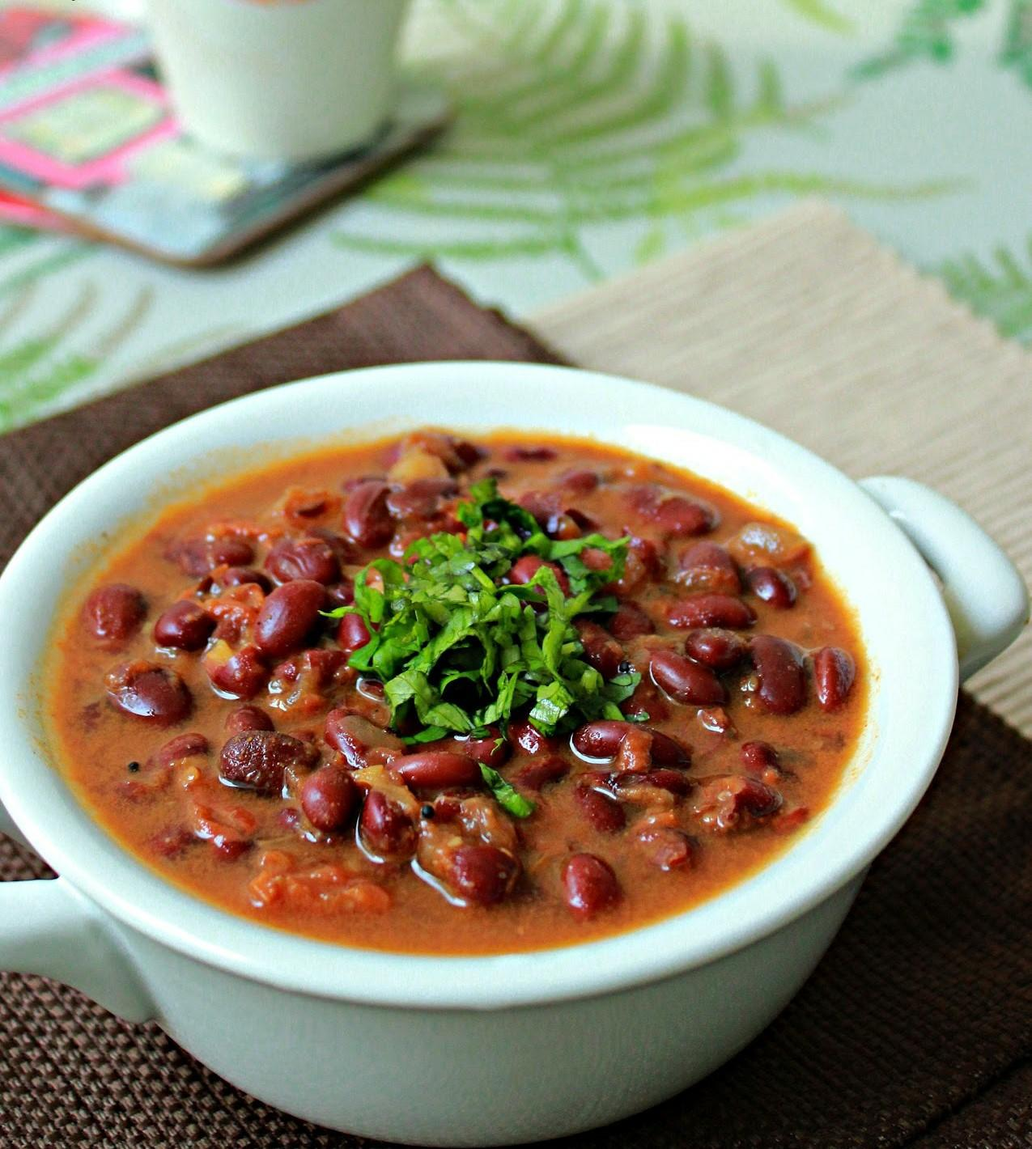RajmaCurry: (58, 426, 847, 957)
